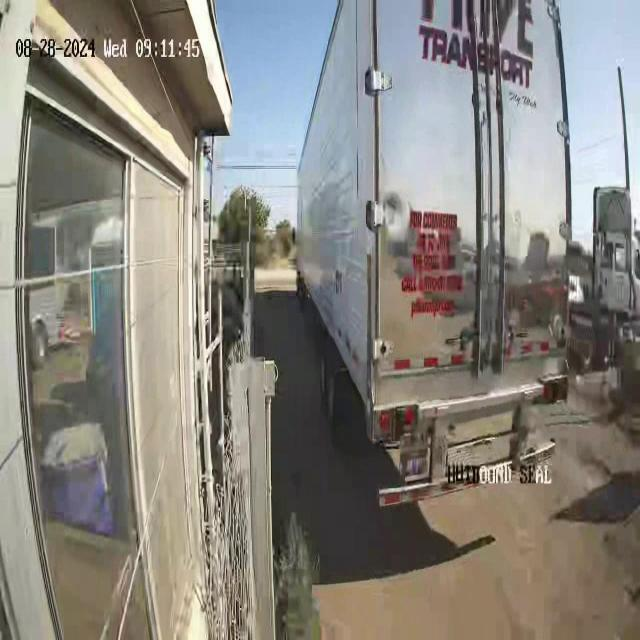TRUCK_OUT: (292, 0, 575, 512)
